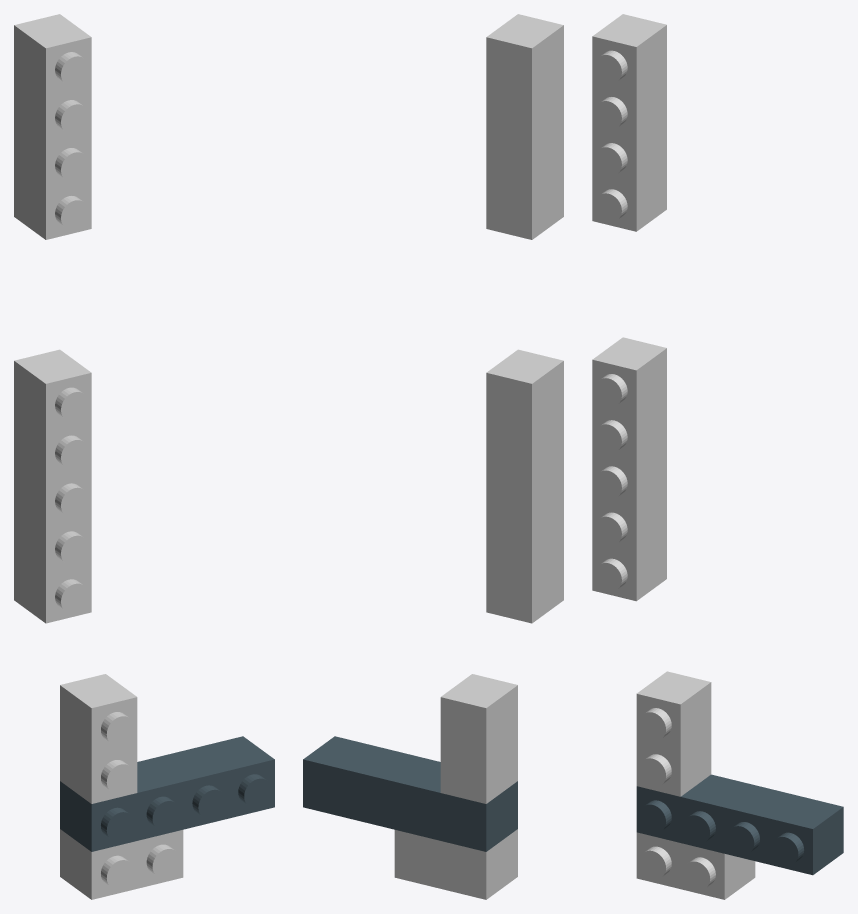
The model's file is current.glb.
The picture shows the model from 3 angles, left to right: view 1: azimuth 30°, elevation 25°; view 2: azimuth 150°, elevation 25°; view 3: azimuth 330°, elevation 25°; orthographic projection. The views are drawn at different scales.
Visible parts, largest first — view 1: world; view 2: world; view 3: world.
Boxes of the visible parts, left/top/right/bottom form: world: left=14, top=14, right=274, bottom=899; world: left=303, top=14, right=563, bottom=899; world: left=592, top=14, right=843, bottom=899.
Bounding box in the file's own units: 40 × 144 × 11.4.
